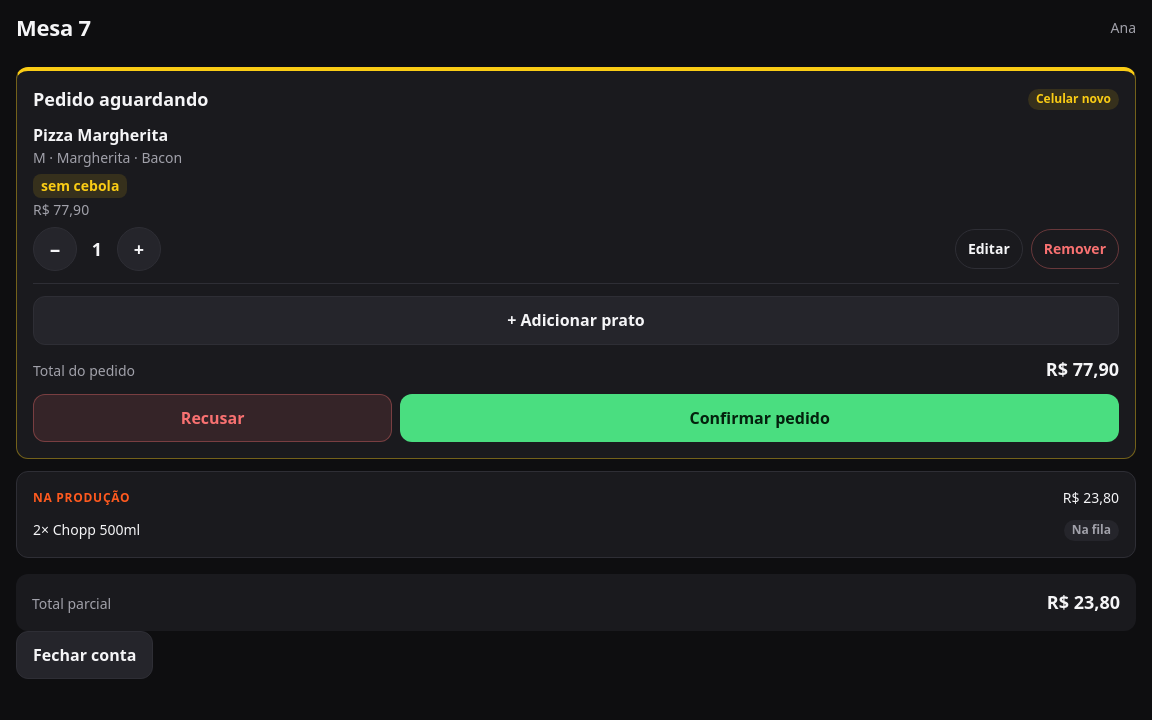
Test: Tela da mesa › Recusar pede confirmação
Later steps or results of the test are not shown.
Expected: the heading "Mesa 7" is shown, [16,12,91,43]
Click the button "Recusar" at (213, 418), box [33,394,392,442]
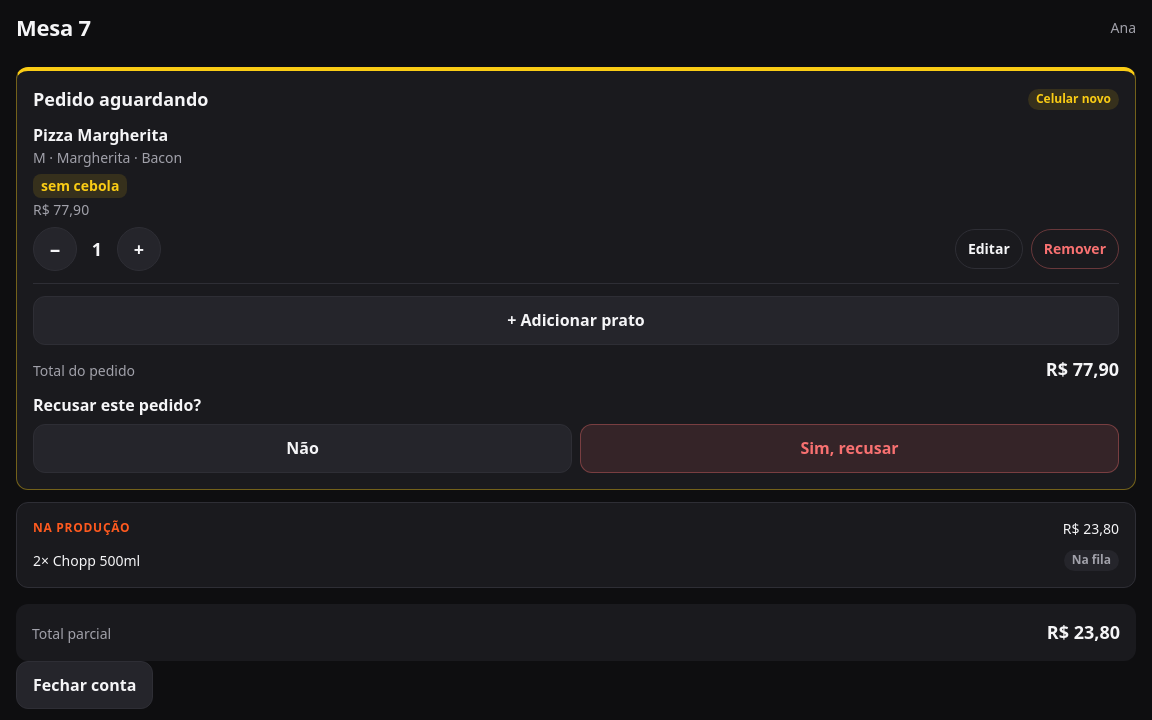
Expected: the text "Recusar este pedido?" is shown, [33,394,201,416]
